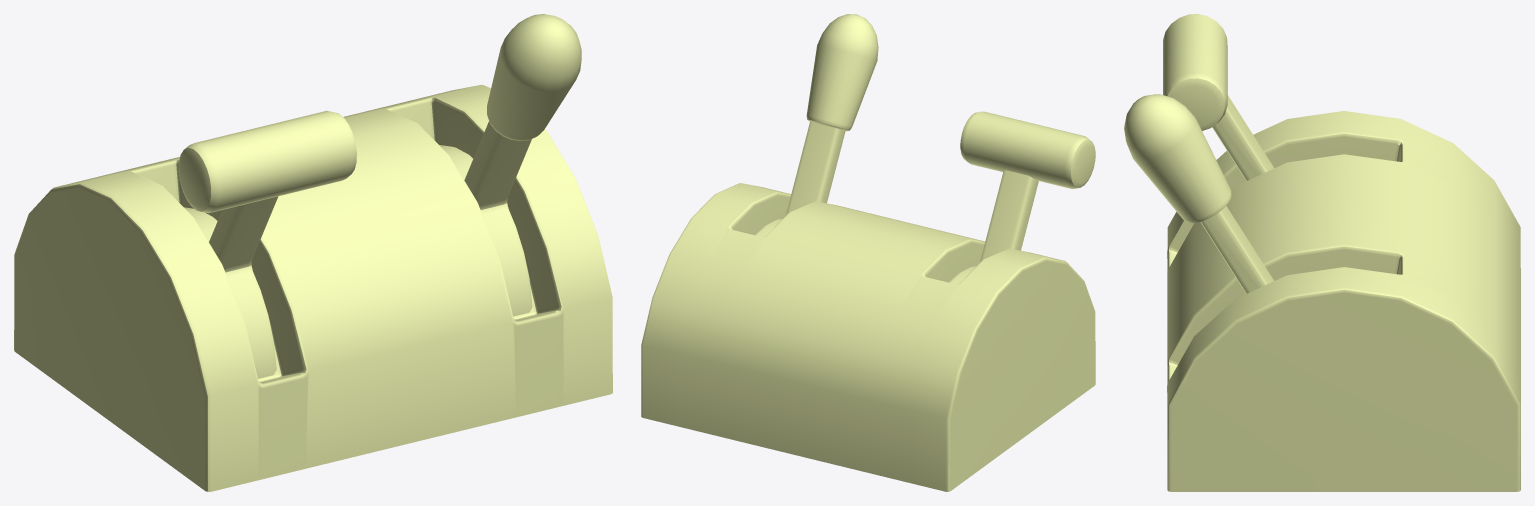
File: Thruster.fbx
3 renders of one model, left to right at view 1: azimuth 30°, elevation 25°; view 2: azimuth 150°, elevation 25°; view 3: azimuth 270°, elevation 25°, orthographic. The views are drawn at different scales.
Visible parts, largest first — view 1: thruster_base, left_controller_handle, right_controller_handle, right_controller, left_controller; view 2: thruster_base, left_controller_handle, right_controller_handle, right_controller, left_controller; view 3: thruster_base, right_controller_handle, left_controller_handle, right_controller, left_controller.
Part boxes in pixels (left/top/right/bottom): thruster_base: left=14, top=84, right=612, bottom=491; left_controller_handle: left=178, top=110, right=356, bottom=213; right_controller_handle: left=487, top=14, right=581, bottom=141; right_controller: left=439, top=121, right=532, bottom=316; left_controller: left=184, top=196, right=278, bottom=378; thruster_base: left=641, top=183, right=1095, bottom=491; left_controller_handle: left=960, top=111, right=1095, bottom=188; right_controller_handle: left=806, top=14, right=878, bottom=131; right_controller: left=754, top=122, right=845, bottom=236; left_controller: left=948, top=170, right=1038, bottom=284; thruster_base: left=1167, top=111, right=1520, bottom=491; right_controller_handle: left=1124, top=94, right=1231, bottom=223; left_controller_handle: left=1163, top=14, right=1227, bottom=130; right_controller: left=1200, top=205, right=1273, bottom=293; left_controller: left=1212, top=95, right=1273, bottom=180.
Bounding box in the file's own units: 0.4579 × 0.4527 × 0.427.
